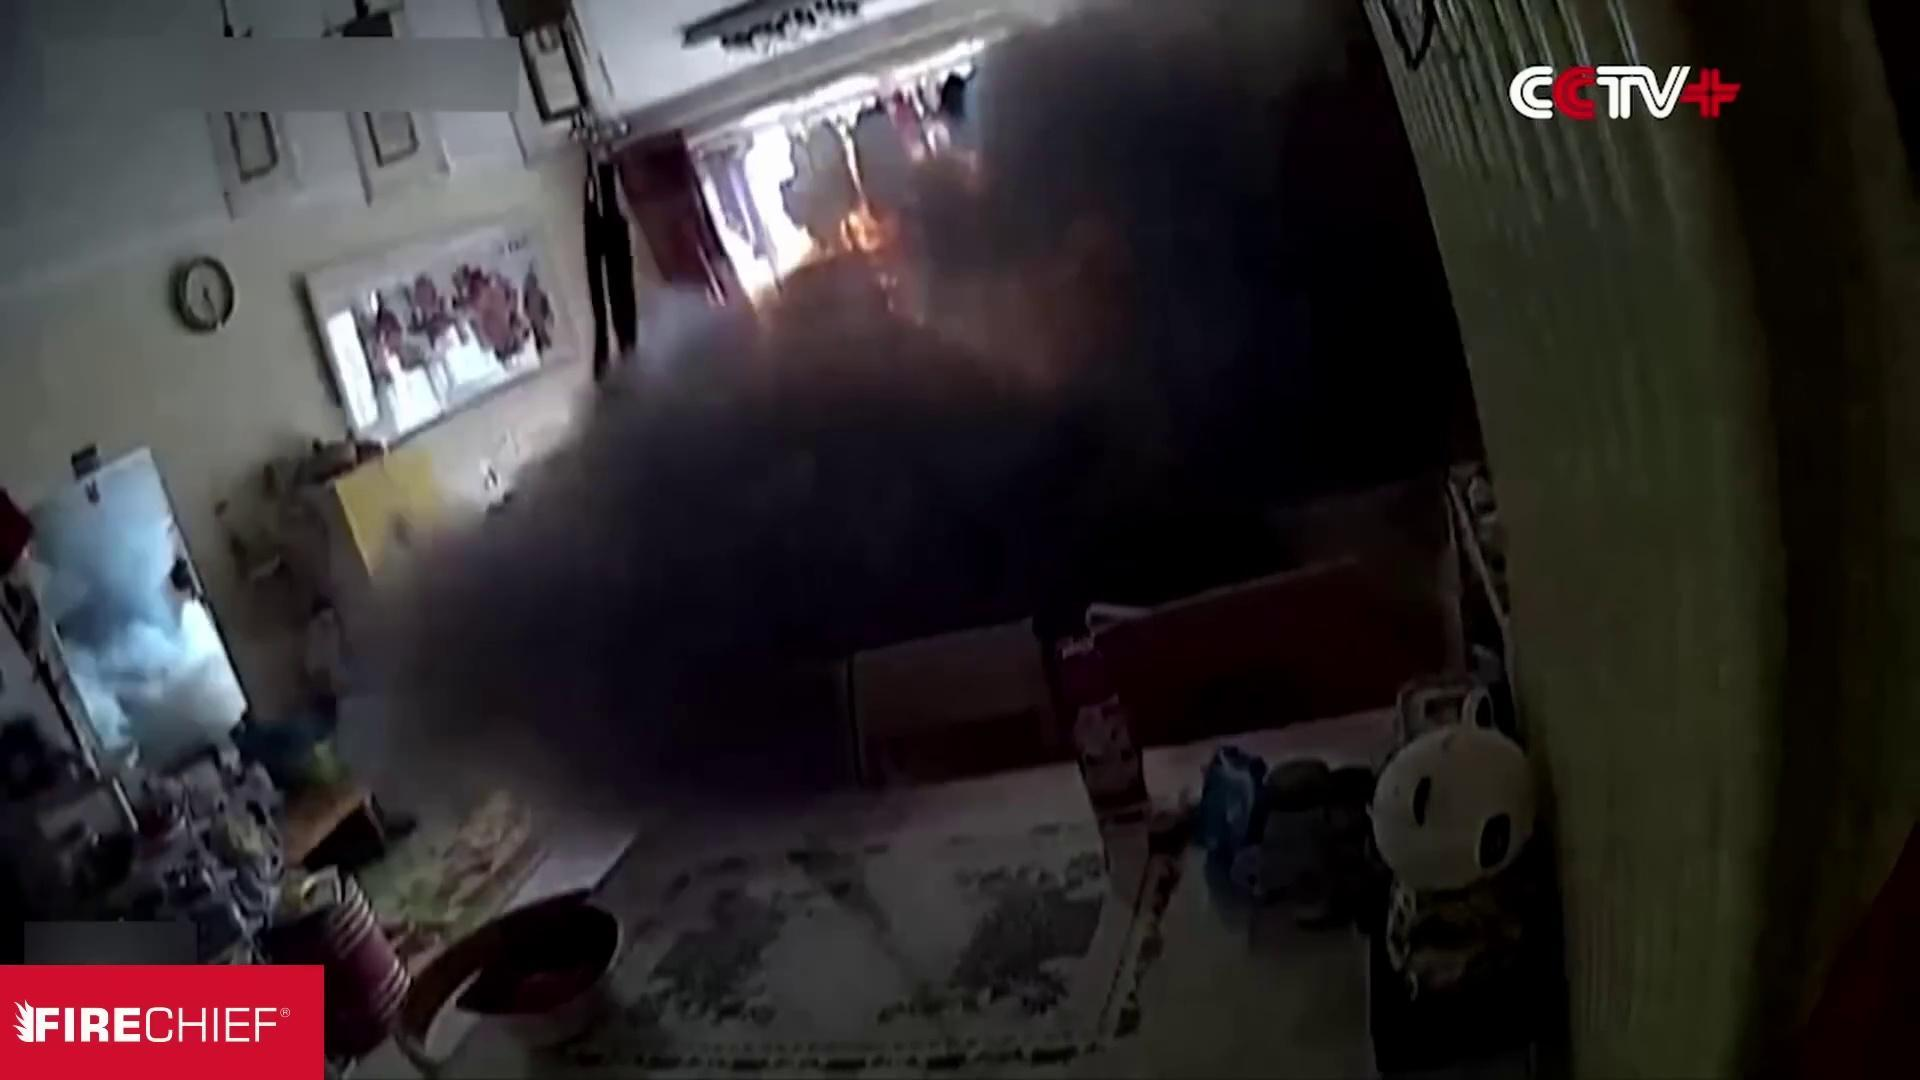smoke: (287, 69, 1183, 723)
